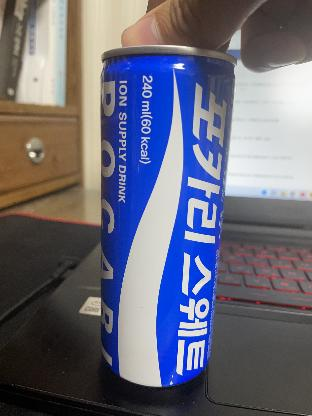Can: (98, 37, 234, 388)
